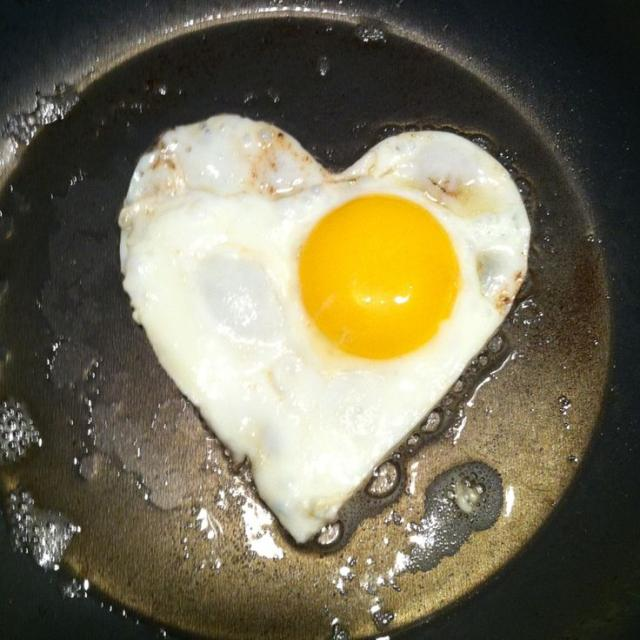fryed egg: (120, 115, 529, 542)
